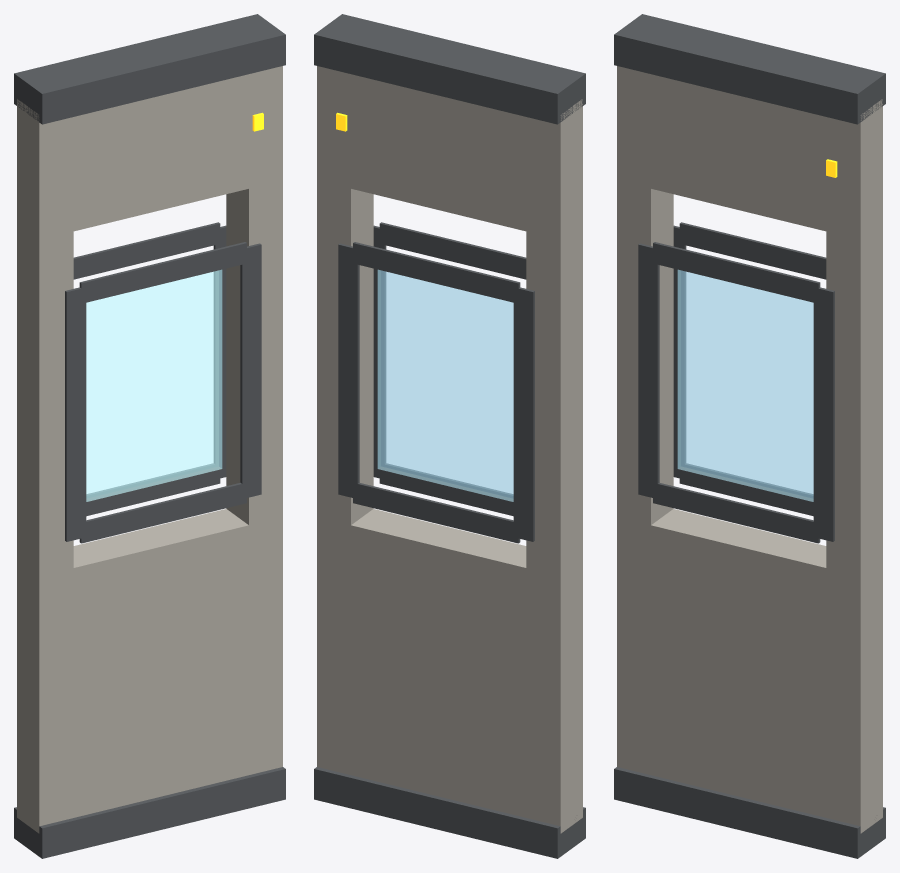
File: wall_window.glb
3 views of the same model, side by side, from view 1: azimuth 30°, elevation 25°; view 2: azimuth 150°, elevation 25°; view 3: azimuth 330°, elevation 25° (orthographic).
Parts seen in each view (by area): view 1: window_wall_lower_slab, window_wall_left_slab, window_blue_glass, window_wall_upper_slab, window_wall_right_slab, window_wall_top_cap, window_wall_bottom_cap, window_back_frame_right, window_back_frame_left, window_back_frame_top, window_back_frame_bottom, window_front_frame_top (+2 smaller); view 2: window_wall_lower_slab, window_wall_left_slab, window_blue_glass, window_wall_right_slab, window_wall_upper_slab, window_wall_top_cap, window_wall_bottom_cap, window_front_frame_left, window_front_frame_right, window_front_frame_top, window_front_frame_bottom, window_back_frame_top (+2 smaller); view 3: window_wall_lower_slab, window_wall_right_slab, window_blue_glass, window_wall_left_slab, window_wall_upper_slab, window_wall_top_cap, window_wall_bottom_cap, window_back_frame_right, window_back_frame_left, window_back_frame_top, window_back_frame_bottom, window_front_frame_top (+2 smaller).
Boxes of the visible parts, x1,y1,x2,y2 form: window_wall_lower_slab: (54, 509, 268, 822); window_wall_left_slab: (17, 99, 73, 833); window_blue_glass: (86, 269, 222, 501); window_wall_upper_slab: (54, 69, 268, 235); window_wall_right_slab: (226, 66, 282, 774); window_wall_top_cap: (14, 14, 285, 124); window_wall_bottom_cap: (14, 767, 285, 858); window_back_frame_right: (240, 243, 261, 498); window_back_frame_left: (65, 287, 86, 541); window_back_frame_top: (79, 242, 246, 303); window_back_frame_bottom: (79, 482, 246, 543); window_front_frame_top: (73, 222, 220, 279); window_wall_lower_slab: (331, 509, 545, 822); window_wall_left_slab: (526, 99, 582, 833); window_blue_glass: (377, 269, 513, 501); window_wall_right_slab: (317, 66, 373, 774); window_wall_upper_slab: (331, 70, 545, 236); window_wall_top_cap: (314, 14, 585, 124); window_wall_bottom_cap: (314, 767, 585, 858); window_front_frame_left: (513, 287, 534, 541); window_front_frame_right: (338, 243, 359, 498); window_front_frame_top: (353, 242, 520, 303); window_front_frame_bottom: (353, 482, 520, 543); window_back_frame_top: (379, 222, 526, 279); window_wall_lower_slab: (631, 509, 845, 822); window_wall_right_slab: (826, 99, 882, 833); window_blue_glass: (677, 269, 813, 501); window_wall_left_slab: (617, 66, 673, 774); window_wall_upper_slab: (631, 70, 845, 236); window_wall_top_cap: (614, 14, 885, 124); window_wall_bottom_cap: (614, 767, 885, 858); window_back_frame_right: (813, 287, 834, 541); window_back_frame_left: (638, 243, 659, 498); window_back_frame_top: (653, 242, 820, 303); window_back_frame_bottom: (653, 482, 820, 543); window_front_frame_top: (679, 222, 826, 279).
Bounding box in the file's own units: 1 × 3 × 0.202.
